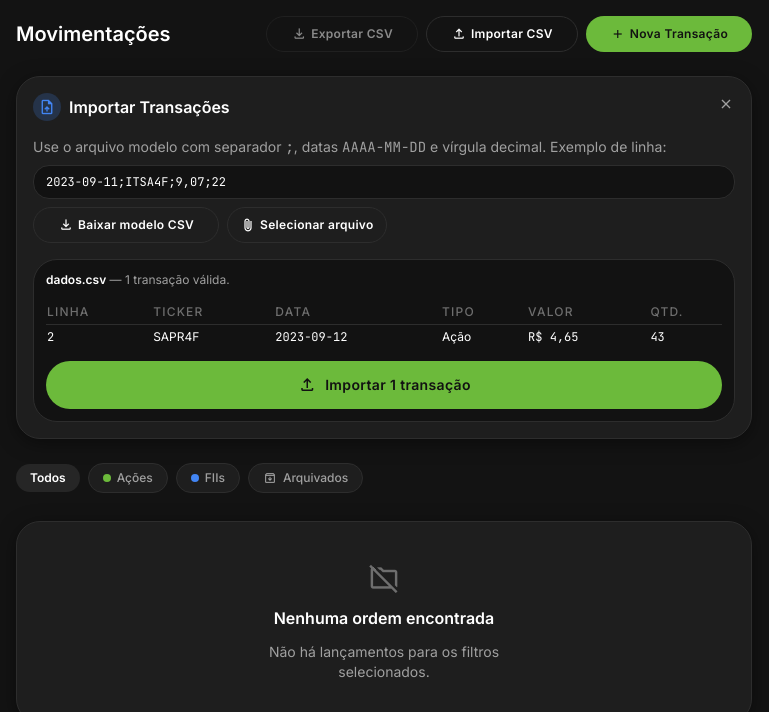
Test: Transactions — import CSV › mostra o erro da API e mantém a prévia quando a inserção falha
This screenshot has width=769, height=712.
Earlier steps of the test are not shown.
Click the button "Importar 1 transação".
click(384, 385)  # box [46, 361, 722, 409]
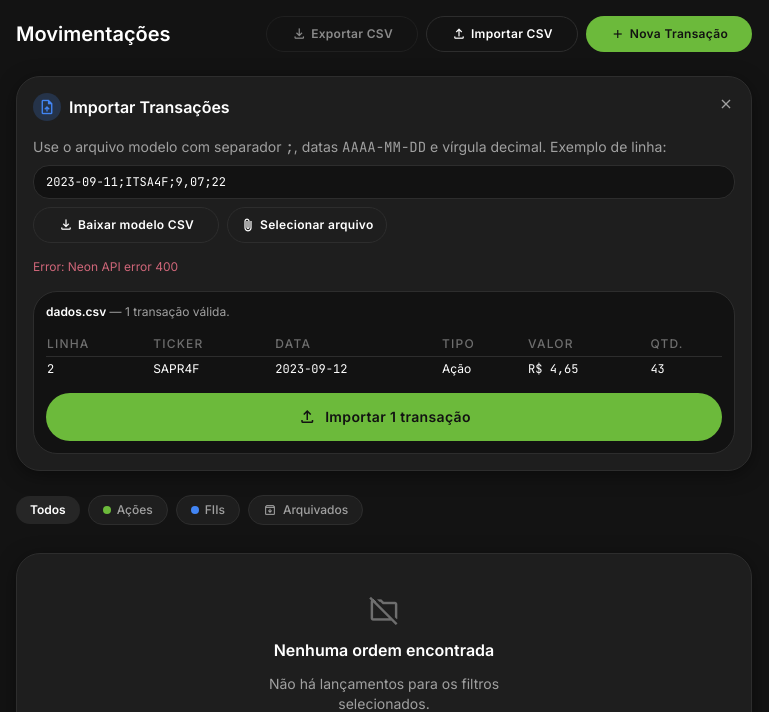
Expected: the text "Importar 1 transação" is shown, [46, 393, 722, 441]
Now the text "Neon API error 400" is shown, box [33, 259, 178, 274]
